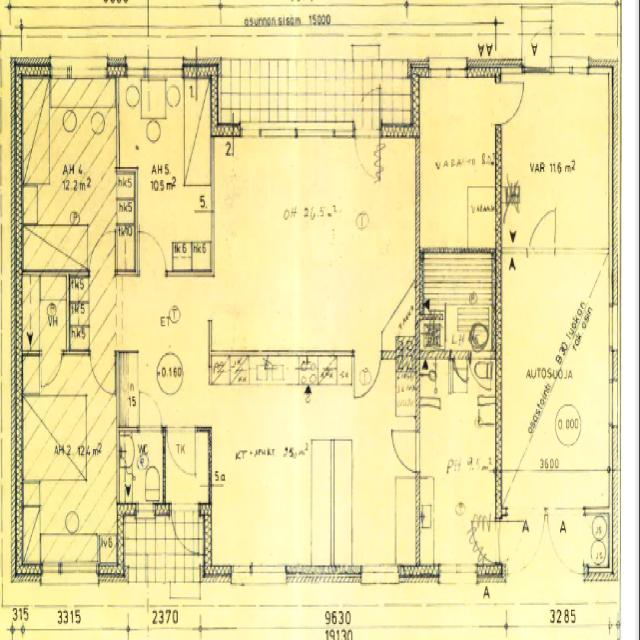door: (352, 86, 382, 182), (497, 516, 539, 572), (493, 71, 526, 128), (171, 503, 203, 559), (389, 423, 422, 477), (165, 426, 198, 480), (528, 204, 560, 258), (138, 225, 168, 279), (136, 387, 165, 438), (523, 23, 553, 72), (353, 352, 382, 400), (469, 354, 493, 394), (450, 354, 471, 392)
window: (242, 123, 348, 145), (45, 557, 102, 584), (230, 561, 288, 586), (48, 58, 112, 80), (238, 122, 301, 142), (125, 63, 185, 81), (358, 563, 401, 588), (294, 123, 350, 142), (437, 562, 479, 586), (605, 374, 621, 434), (606, 298, 621, 358), (552, 56, 592, 78), (132, 501, 158, 528)
zone: (212, 133, 419, 357), (496, 248, 617, 508), (207, 363, 333, 580), (19, 348, 120, 572), (17, 70, 122, 276), (497, 68, 614, 250), (419, 362, 498, 578), (330, 402, 420, 581), (417, 73, 498, 252), (116, 73, 215, 194), (420, 252, 496, 355), (16, 274, 69, 390), (118, 430, 166, 512), (164, 426, 199, 480)
